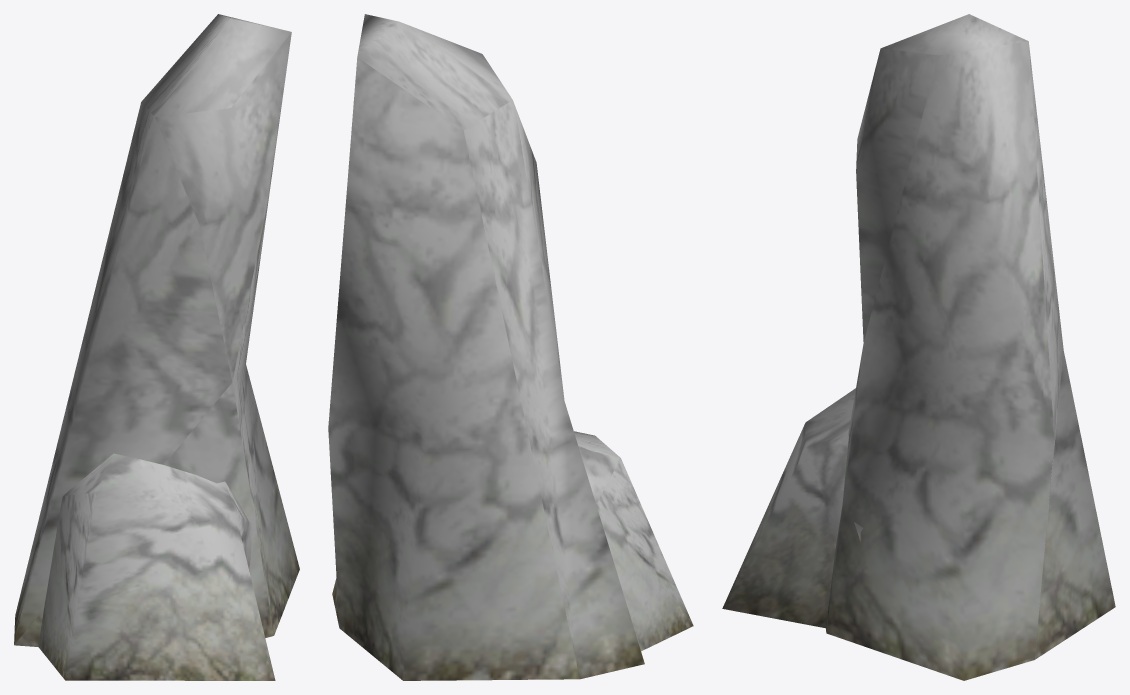
Rendered from general_obj_bigstone03_lod_01.fbx.
3 renders of one model, left to right at view 1: azimuth 30°, elevation 25°; view 2: azimuth 150°, elevation 25°; view 3: azimuth 270°, elevation 25°, orthographic. The views are drawn at different scales.
Parts seen in each view (by area): view 1: Sphere01; view 2: Sphere01; view 3: Sphere01.
Part boxes in pixels (x1,y1,x2,y2): Sphere01: (14,14,299,680); Sphere01: (328,14,693,680); Sphere01: (722,14,1115,680).
Bounding box in the file's own units: 12.51 × 23.1 × 13.05.
